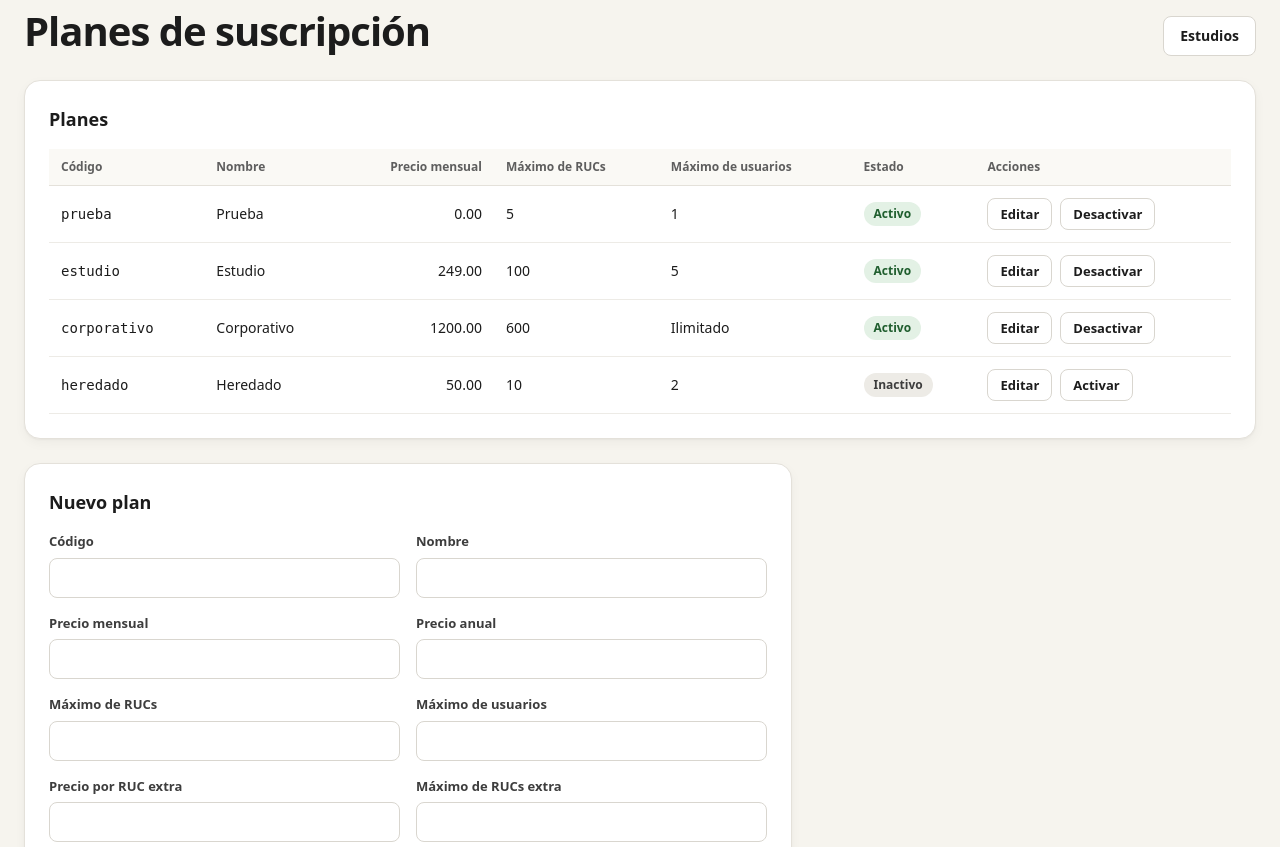
/admin/planes › editar: carga la fila, cambia a 'Guardar cambios' y hace PUT con el reemplazo completo
Click the button "Editar" in the row of "249.00": (1020, 271) [988,255,1052,287]
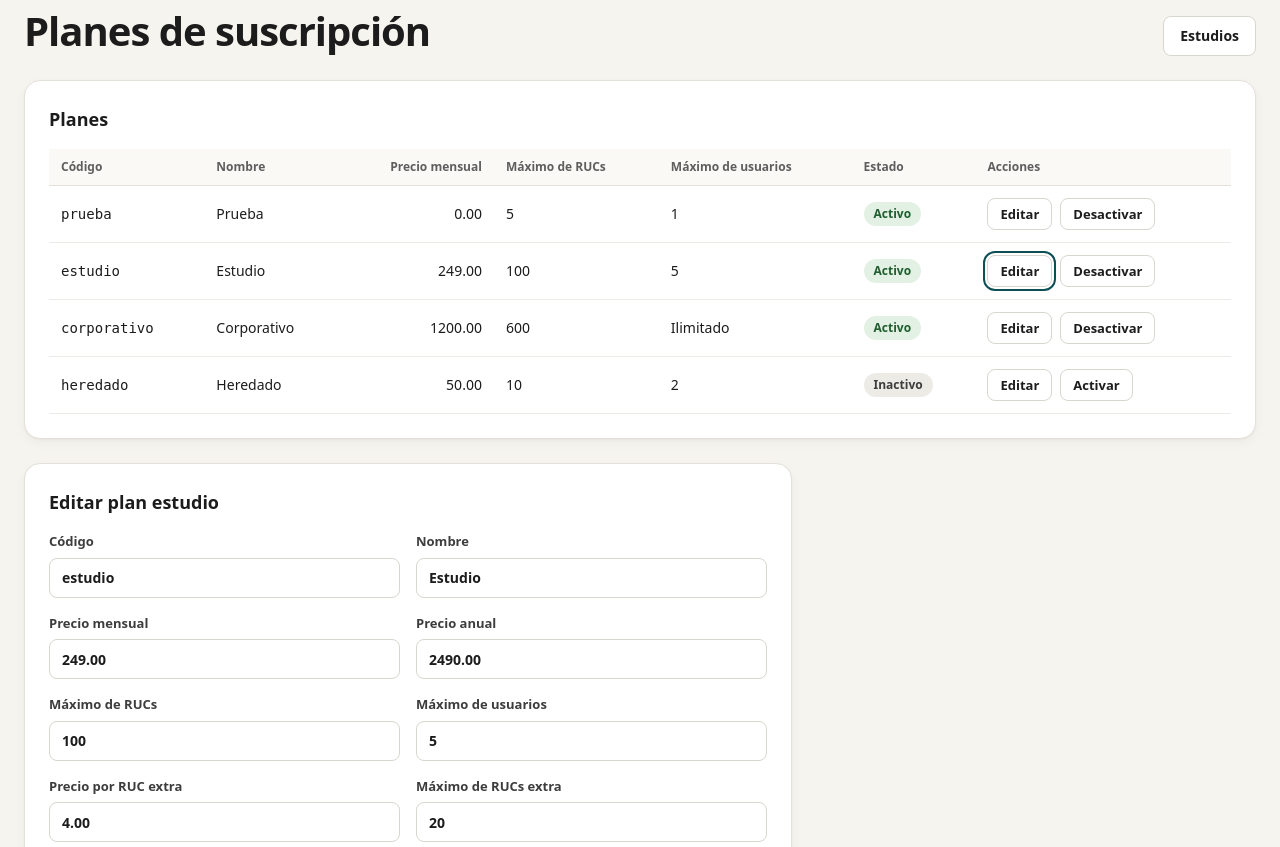
Expected: the field labelled "Código" holds "estudio", [49,558,400,598]
Expected: the field labelled "Precio mensual" holds "249.00", [49,639,400,679]
Replace the text in the field labelled "Máximo de RUCs" with "120": (224, 740) [49,720,400,760]
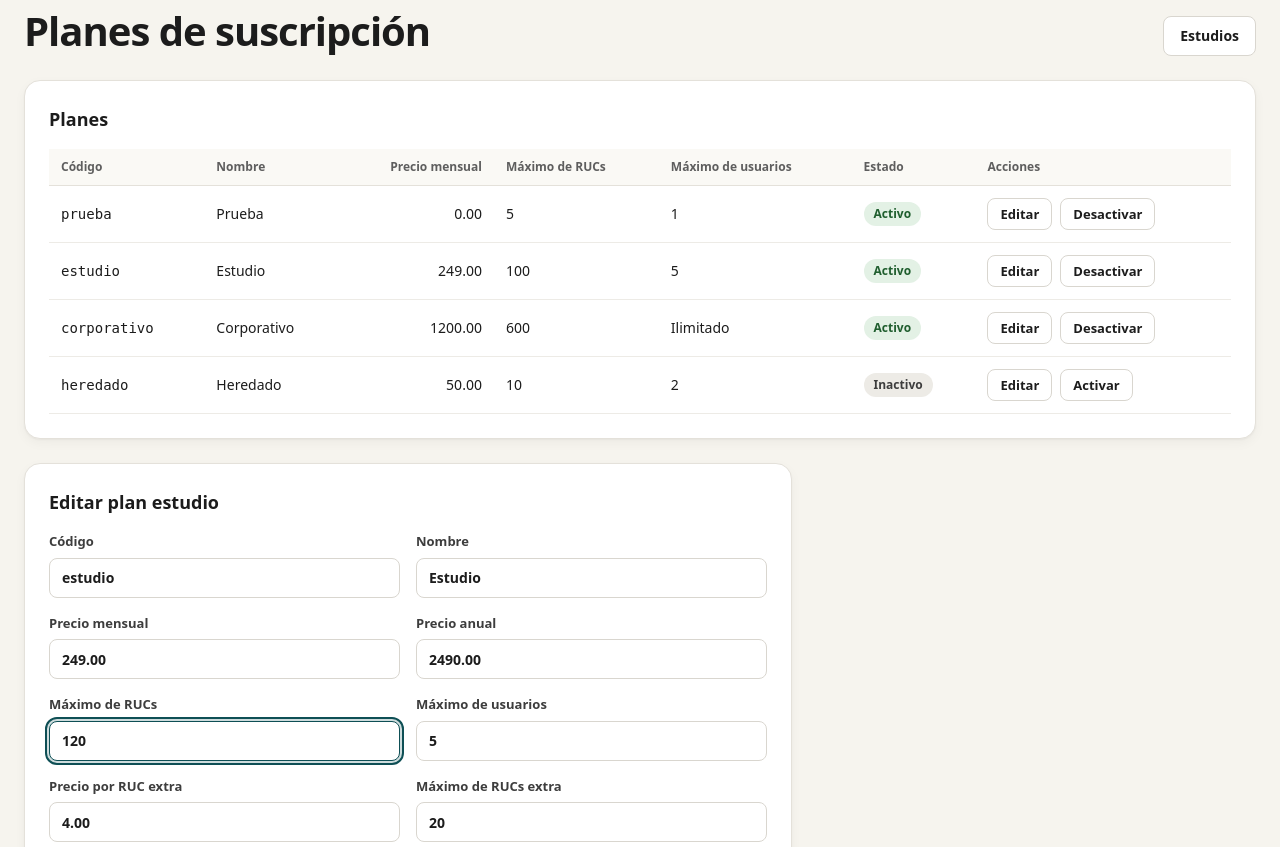
Replace the text in the field labelled "Máximo de RUCs extra" with "24": (592, 822) [416,802,767,842]
(page scrolled)
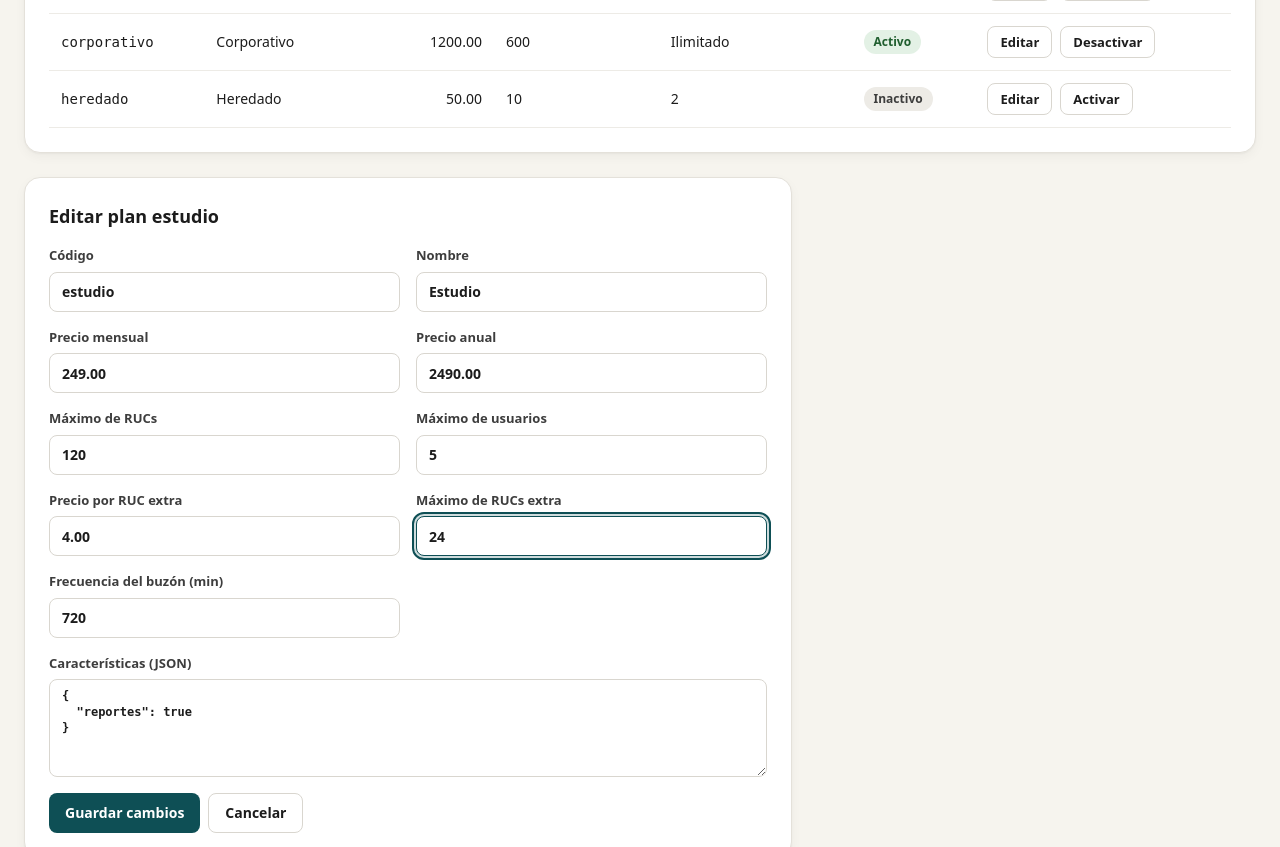
Click the button "Guardar cambios": (125, 813) [49,793,200,833]
(page scrolled)
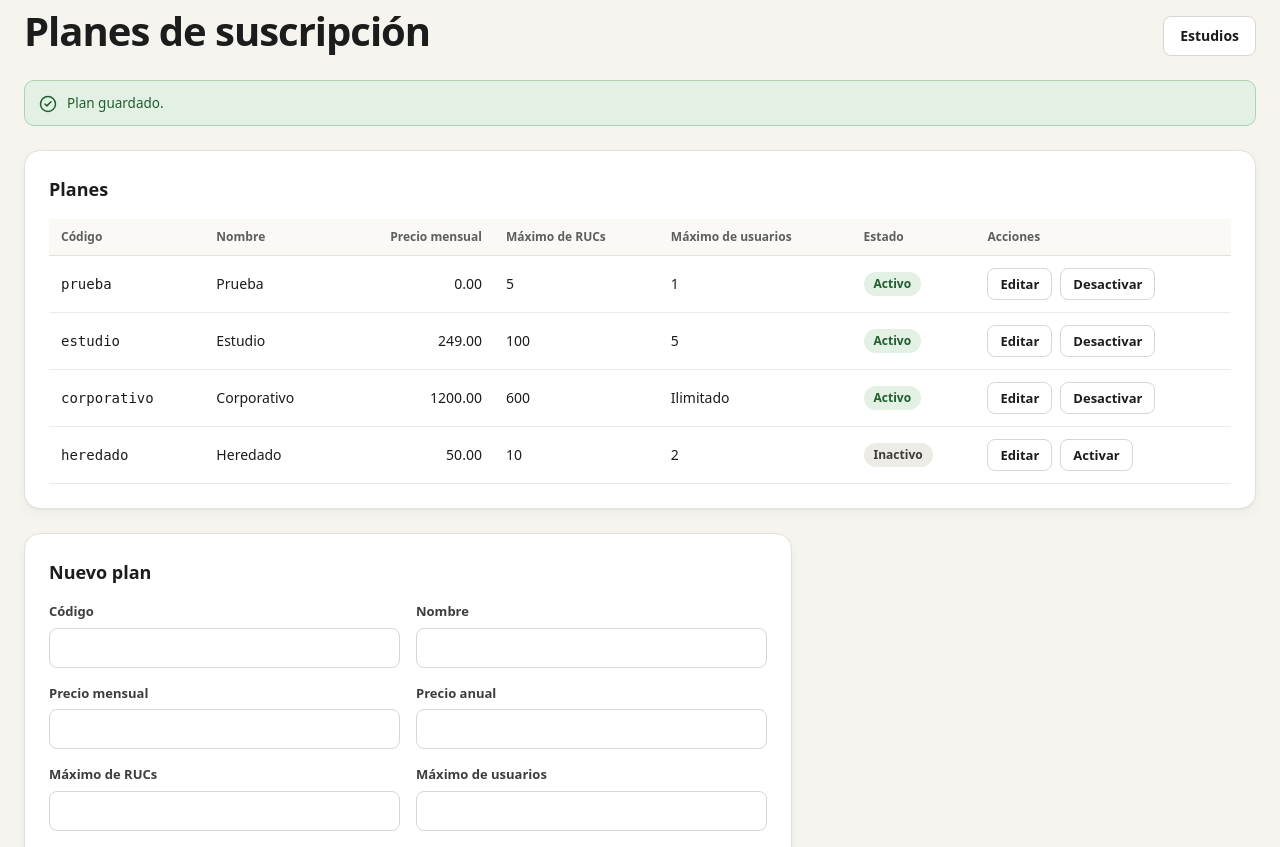
Expected: the text "Plan guardado." is shown, [67,93,164,113]
